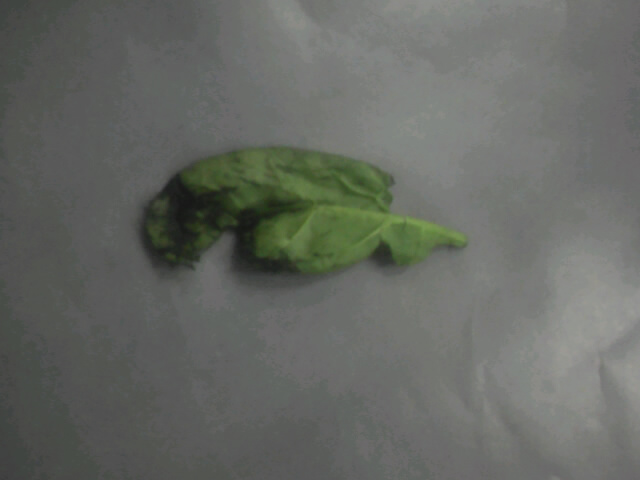yellow: (114, 121, 472, 300)
